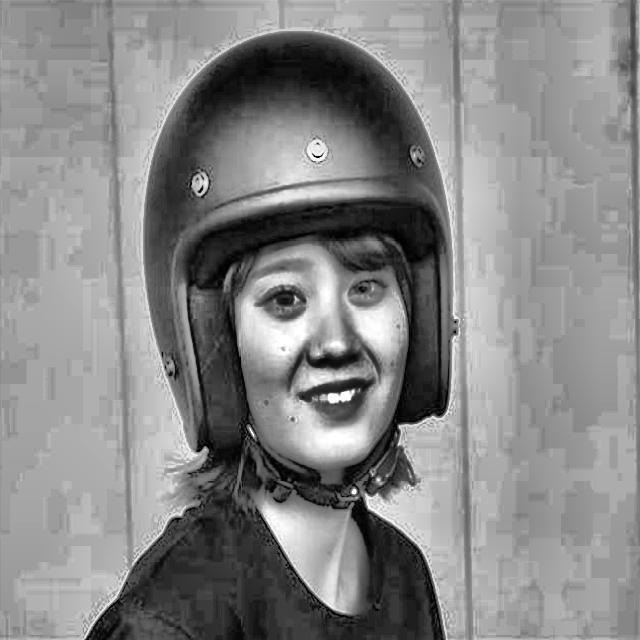Helmet: (134, 19, 471, 523)
